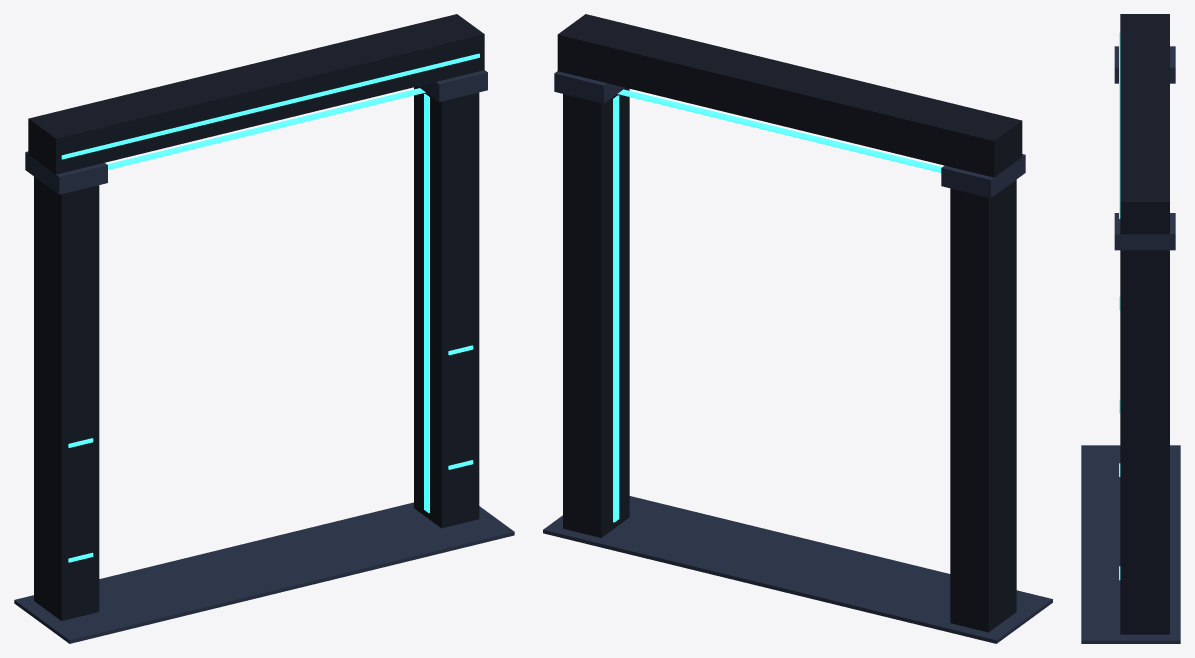
3 views of the same model, side by side, from view 1: azimuth 30°, elevation 25°; view 2: azimuth 150°, elevation 25°; view 3: azimuth 270°, elevation 25° (orthographic). The views are drawn at different scales.
Parts seen in each view (by area): view 1: nexo_gate.lod1; view 2: nexo_gate.lod1; view 3: nexo_gate.lod1.
Part boxes in pixels (x1=…): nexo_gate.lod1: x1=14, y1=14, x2=514, y2=643; nexo_gate.lod1: x1=543, y1=14, x2=1052, y2=643; nexo_gate.lod1: x1=1081, y1=14, x2=1180, y2=643.
Size of the model in its own units: 6.5 by 6.8 by 1.4.
